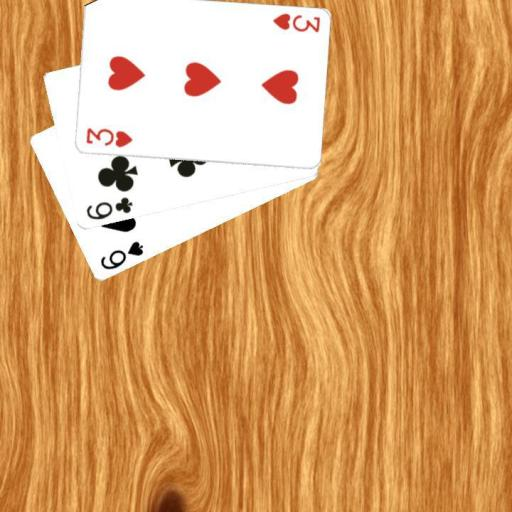3H: (83, 125, 134, 150), (270, 11, 321, 34)
6C: (83, 194, 134, 222)
6S: (97, 238, 145, 272)
